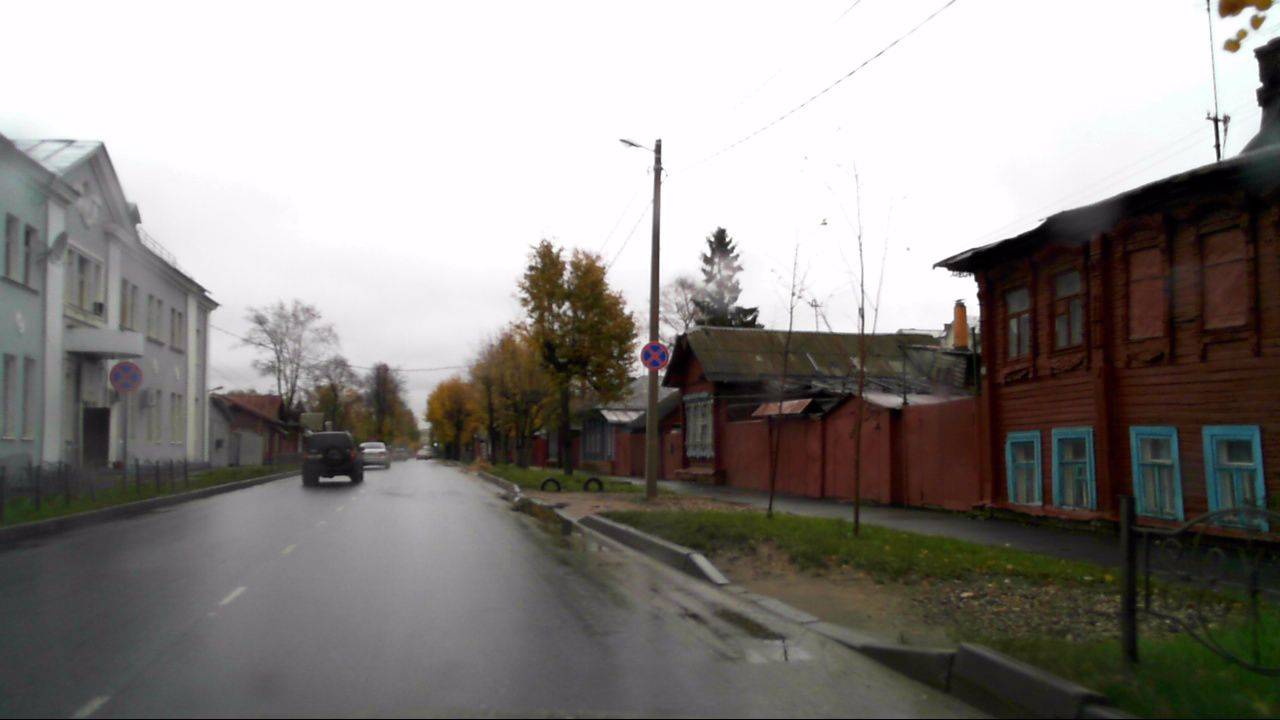No Parking: (641, 342, 669, 371)
